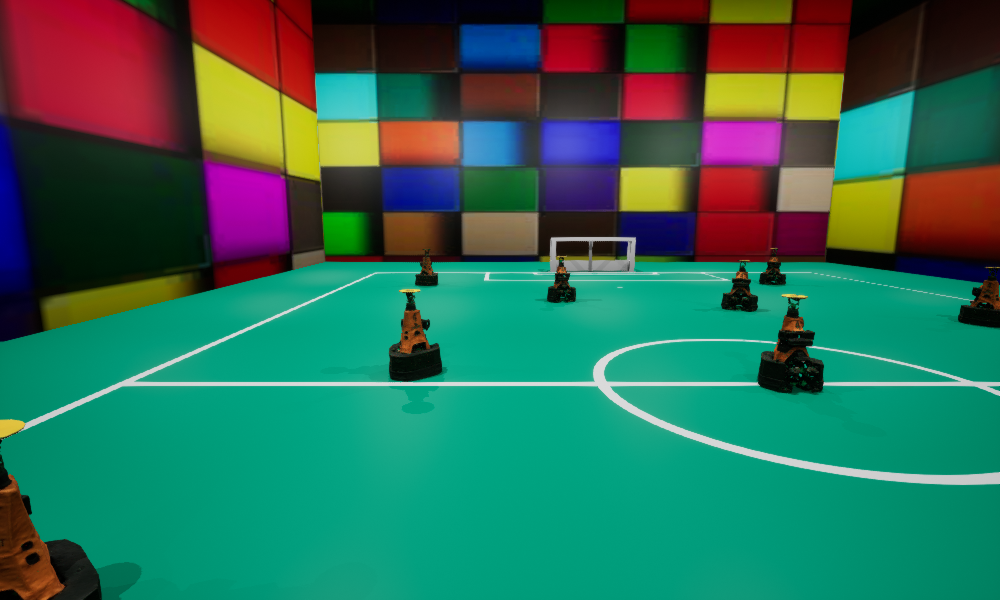0 orange robot TechUnited: (0, 419, 101, 599), (758, 294, 823, 392), (389, 289, 441, 381), (958, 267, 999, 327), (721, 260, 757, 310), (547, 256, 575, 302), (759, 248, 785, 284), (415, 249, 437, 285)
